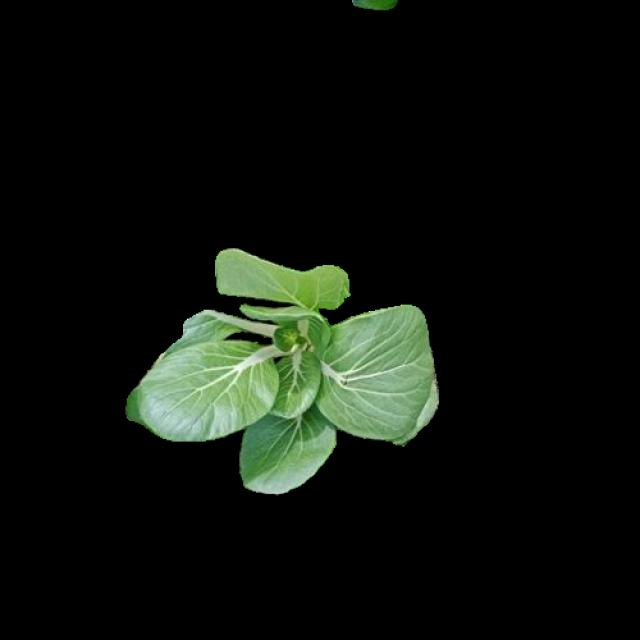healthy: (130, 266, 438, 486)
not-mature: (130, 251, 440, 489)
